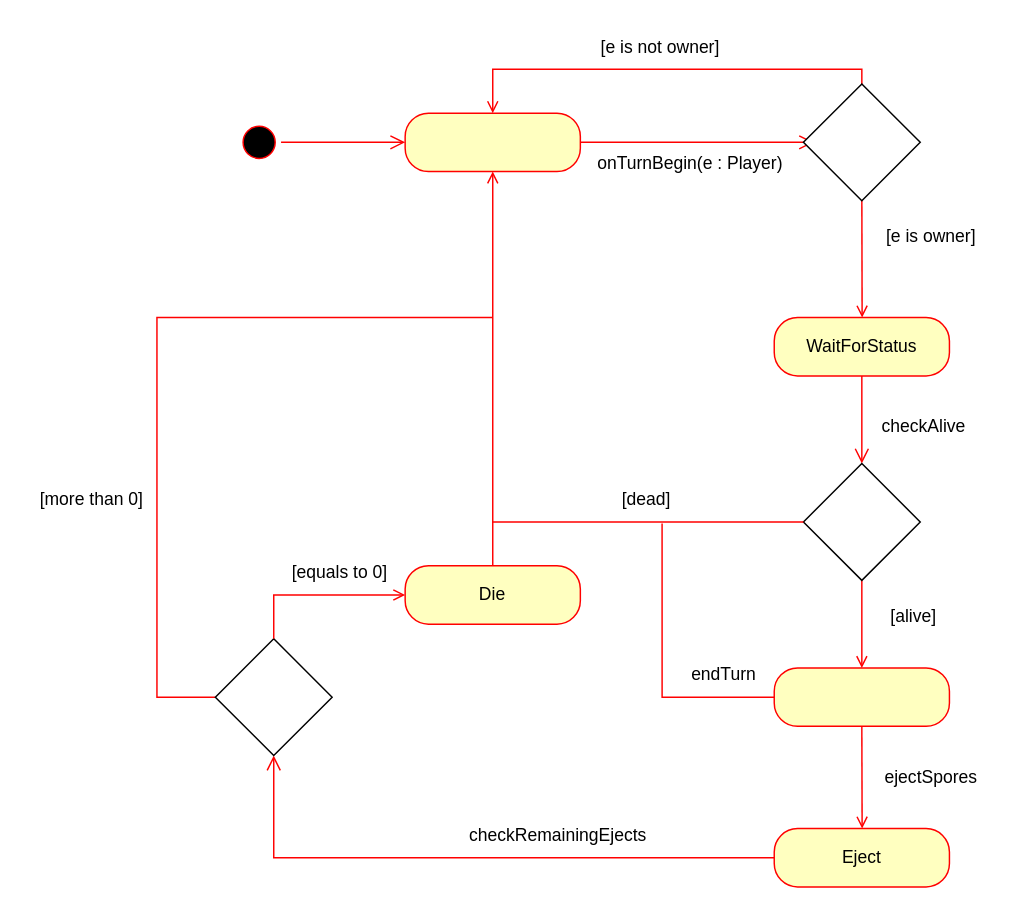
This 1021x913 diagram has some shape labels left out. The shapes that lost their labels are listed below. From the top down, each one's box as (x1, y1, x2, y2) in pixels, then its label:
(404, 112, 580, 172): WaitingForTurn
(773, 666, 949, 726): WaitForInput
